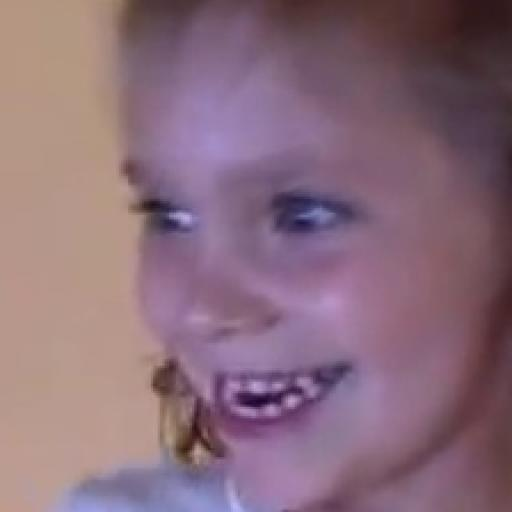Autism: (50, 7, 510, 512)
